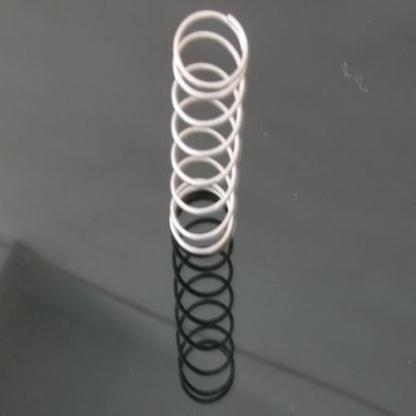FOD: (166, 6, 251, 260)
